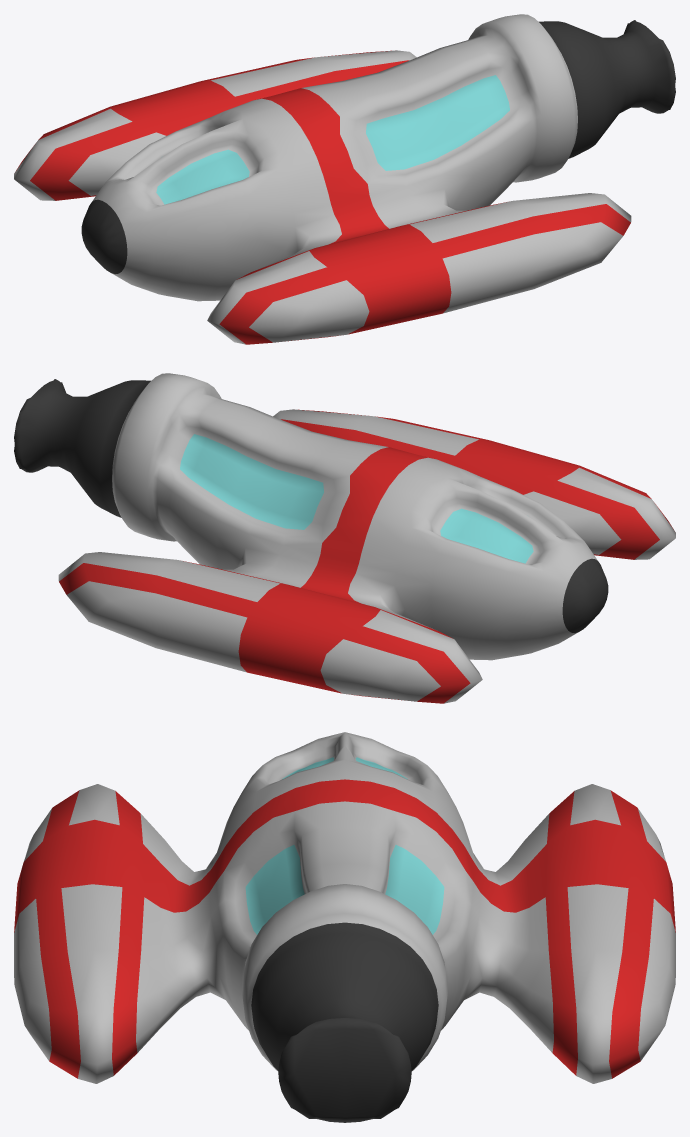
Rendered from Spaceship.fbx.
3 views of the same model, one above another, from view 1: azimuth 30°, elevation 25°; view 2: azimuth 150°, elevation 25°; view 3: azimuth 270°, elevation 25° (orthographic). The views are drawn at different scales.
Visible parts, largest first — view 1: Cylinder.001; view 2: Cylinder.001; view 3: Cylinder.001.
Part boxes in pixels (bbox=[...]): Cylinder.001: bbox=[14, 14, 675, 344]; Cylinder.001: bbox=[14, 373, 675, 703]; Cylinder.001: bbox=[14, 732, 675, 1122].
Bounding box in the file's own units: 1126 × 395 × 902.
